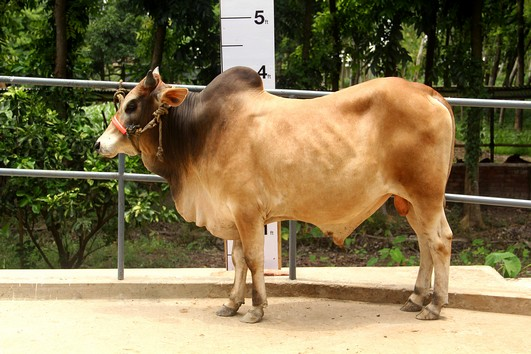cow: (91, 61, 466, 332)
